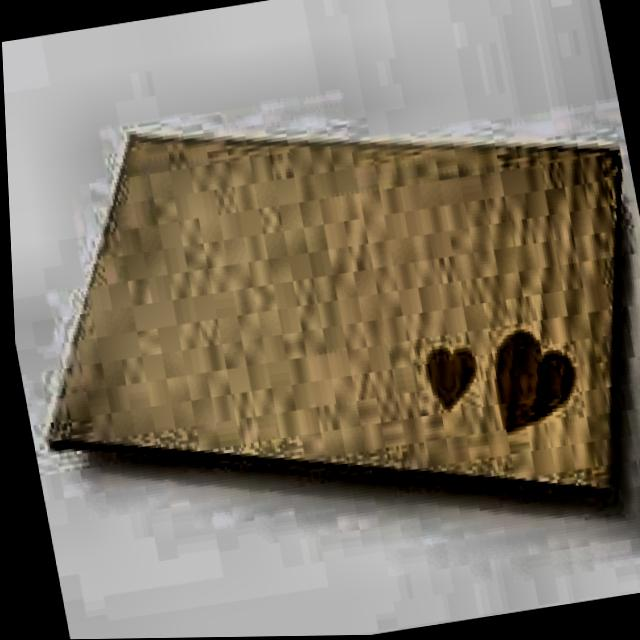Cardbox: (2, 49, 640, 598)
